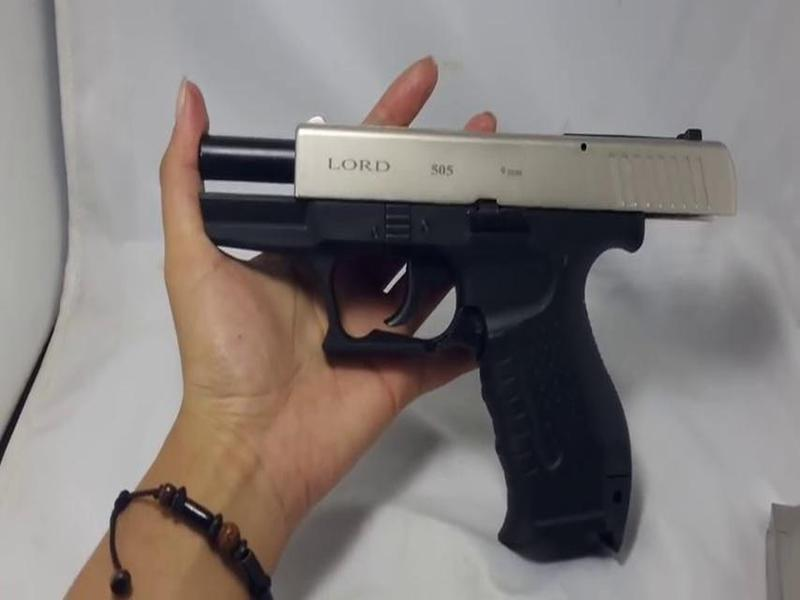Pistola: (156, 108, 727, 559)
